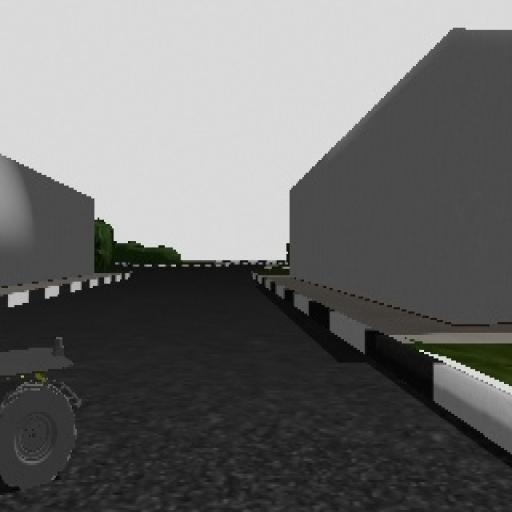huskya200: (0, 309, 86, 511)
